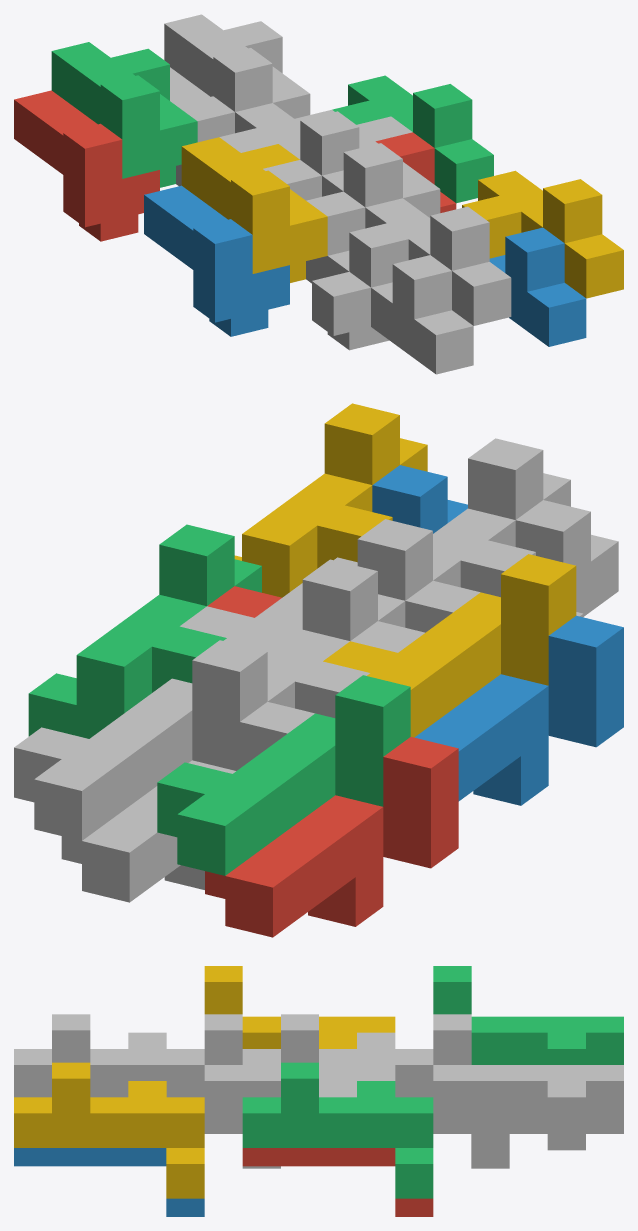
Rendered from tiling.obj.
The picture shows the model from 3 angles, top to bottom: view 1: azimuth 30°, elevation 25°; view 2: azimuth 150°, elevation 25°; view 3: azimuth 270°, elevation 25°; orthographic projection. The views are drawn at different scales.
Visible parts, largest first — view 1: copy_2_domain_2, copy_1_domain_3, copy_1_domain_4, copy_1_domain_2, copy_2_domain_4, copy_1_domain_1, copy_2_domain_8, copy_1_domain_7, copy_2_domain_7, copy_2_domain_6, copy_2_domain_3, copy_1_domain_8 (+4 smaller); view 2: copy_1_domain_1, copy_1_domain_3, copy_1_domain_7, copy_1_domain_2, copy_2_domain_7, copy_1_domain_4, copy_2_domain_8, copy_2_domain_4, copy_2_domain_3, copy_1_domain_5, copy_1_domain_8, copy_2_domain_2 (+4 smaller); view 3: copy_2_domain_7, copy_1_domain_7, copy_2_domain_8, copy_2_domain_4, copy_1_domain_3, copy_1_domain_8, copy_2_domain_3, copy_1_domain_4, copy_1_domain_5, copy_2_domain_5, copy_2_domain_6, copy_1_domain_6.
Boxes of the visible parts, left/top/right/bottom form: copy_2_domain_2: left=312, top=250, right=473, bottom=374; copy_1_domain_3: left=51, top=42, right=197, bottom=187; copy_1_domain_4: left=181, top=137, right=327, bottom=282; copy_1_domain_2: left=144, top=185, right=289, bottom=336; copy_2_domain_4: left=349, top=198, right=511, bottom=325; copy_1_domain_1: left=14, top=90, right=159, bottom=241; copy_2_domain_8: left=462, top=170, right=623, bottom=298; copy_1_domain_7: left=164, top=14, right=310, bottom=118; copy_2_domain_7: left=332, top=75, right=493, bottom=203; copy_2_domain_6: left=489, top=227, right=586, bottom=346; copy_2_domain_3: left=219, top=103, right=359, bottom=196; copy_1_domain_8: left=294, top=109, right=440, bottom=217; copy_1_domain_1: left=205, top=737, right=458, bottom=937; copy_1_domain_3: left=157, top=675, right=410, bottom=875; copy_1_domain_7: left=14, top=640, right=267, bottom=840; copy_1_domain_2: left=414, top=615, right=623, bottom=805; copy_2_domain_7: left=28, top=524, right=261, bottom=738; copy_1_domain_4: left=323, top=554, right=576, bottom=737; copy_2_domain_8: left=234, top=403, right=427, bottom=597; copy_2_domain_4: left=433, top=438, right=570, bottom=597; copy_2_domain_3: left=267, top=559, right=405, bottom=717; copy_1_domain_5: left=61, top=702, right=314, bottom=902; copy_1_domain_8: left=180, top=519, right=432, bottom=654; copy_2_domain_2: left=515, top=500, right=618, bottom=617; copy_2_domain_7: left=242, top=1062, right=433, bottom=1198; copy_1_domain_7: left=433, top=1014, right=623, bottom=1150; copy_2_domain_8: left=14, top=1062, right=204, bottom=1198; copy_2_domain_4: left=14, top=1014, right=204, bottom=1097; copy_1_domain_3: left=433, top=966, right=623, bottom=1064; copy_1_domain_8: left=204, top=1014, right=395, bottom=1115; copy_2_domain_3: left=242, top=1014, right=433, bottom=1097; copy_1_domain_4: left=204, top=966, right=395, bottom=1048; copy_1_domain_5: left=433, top=1115, right=623, bottom=1168; copy_2_domain_5: left=242, top=1148, right=433, bottom=1216; copy_2_domain_6: left=14, top=1148, right=204, bottom=1216; copy_1_domain_6: left=204, top=1115, right=280, bottom=1168.
Size of the model in its own units: 9 by 4 by 16.
